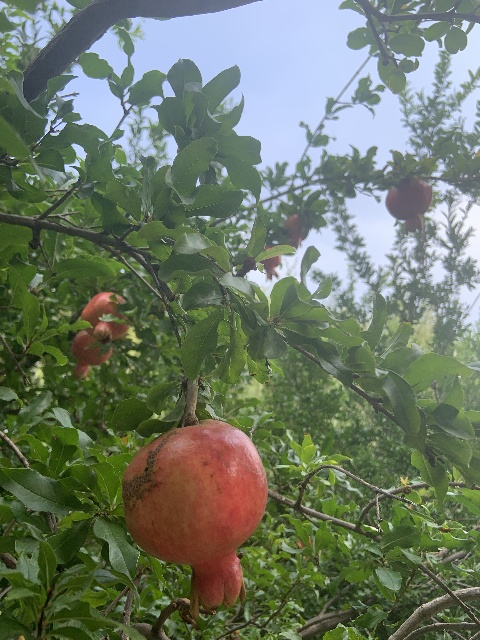ripe: (122, 418, 268, 620), (79, 291, 130, 344), (385, 177, 433, 233), (69, 329, 113, 380), (285, 214, 309, 249), (259, 246, 281, 282)
